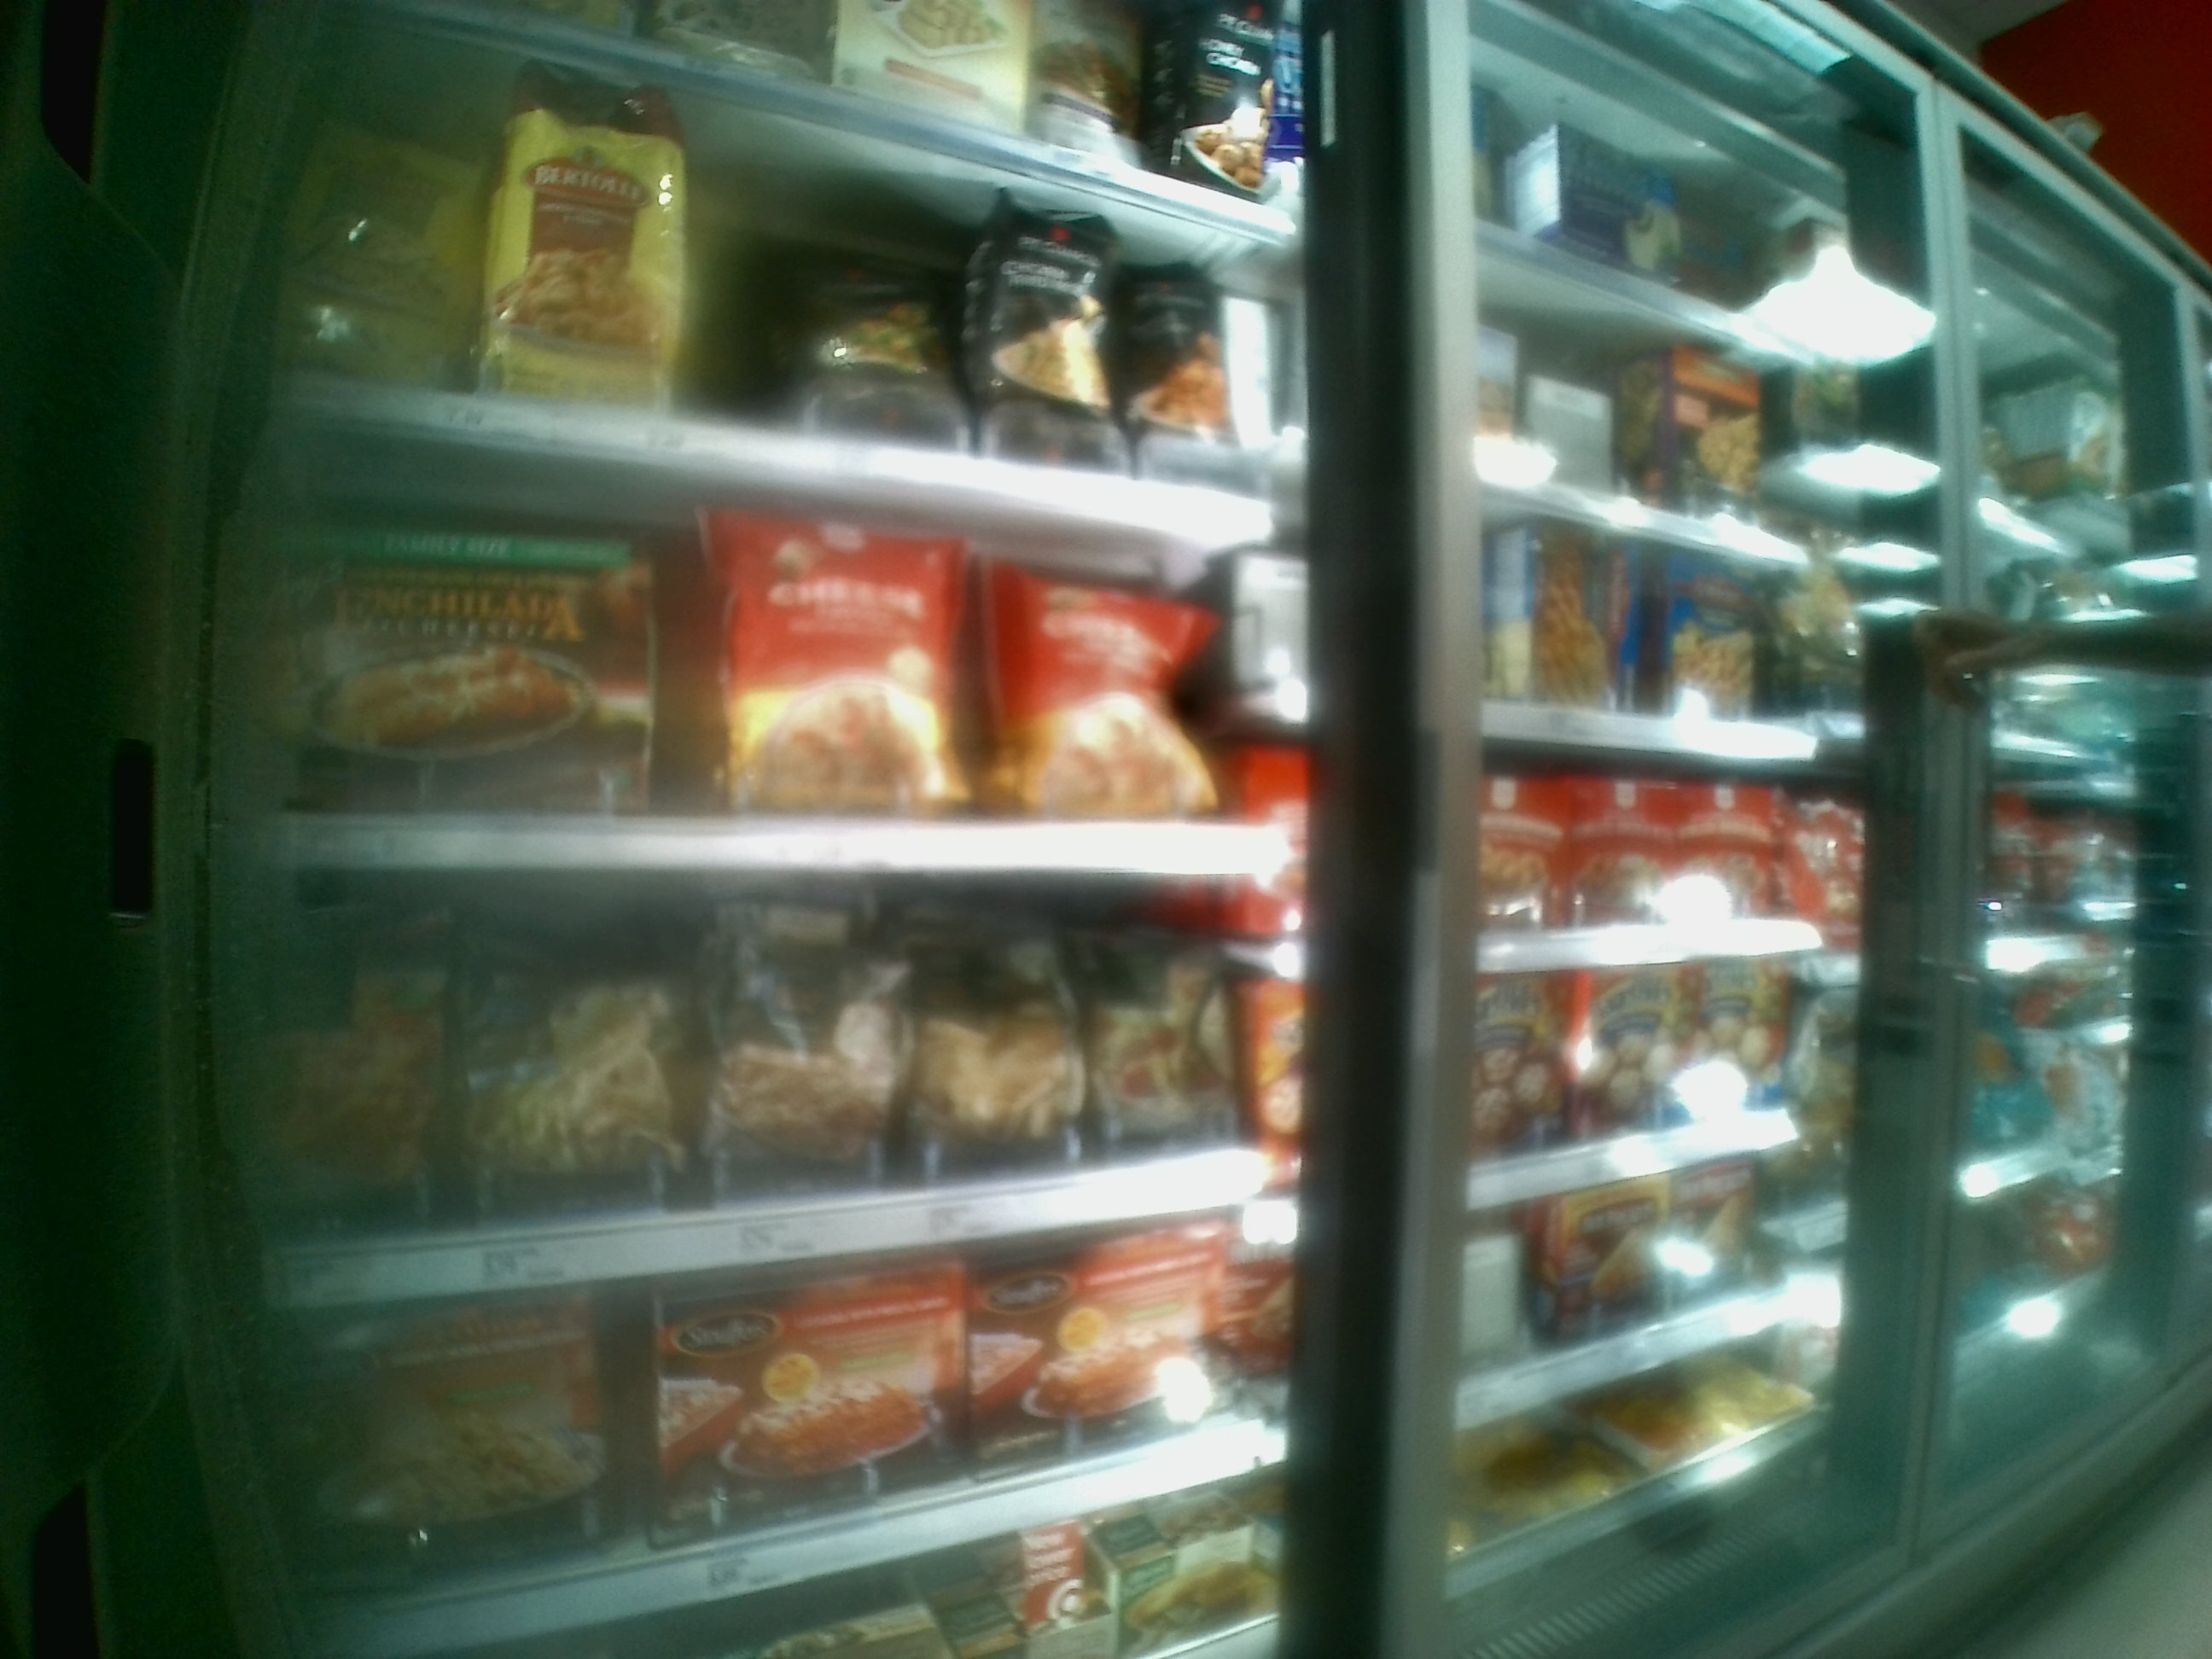shelf: (279, 410, 1298, 870), (261, 870, 1310, 1309)
